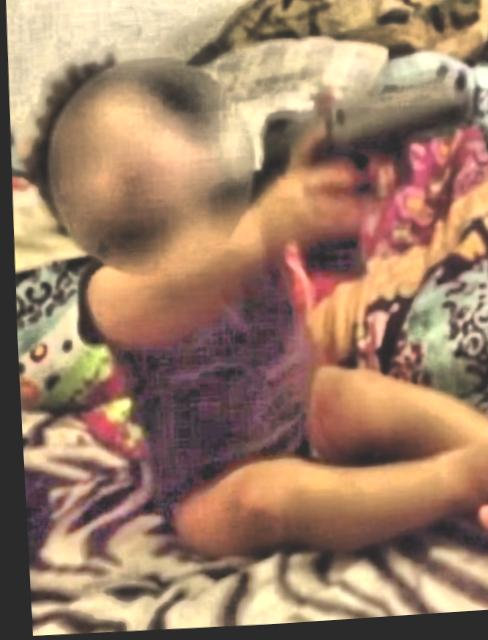pistol: (255, 72, 475, 293)
